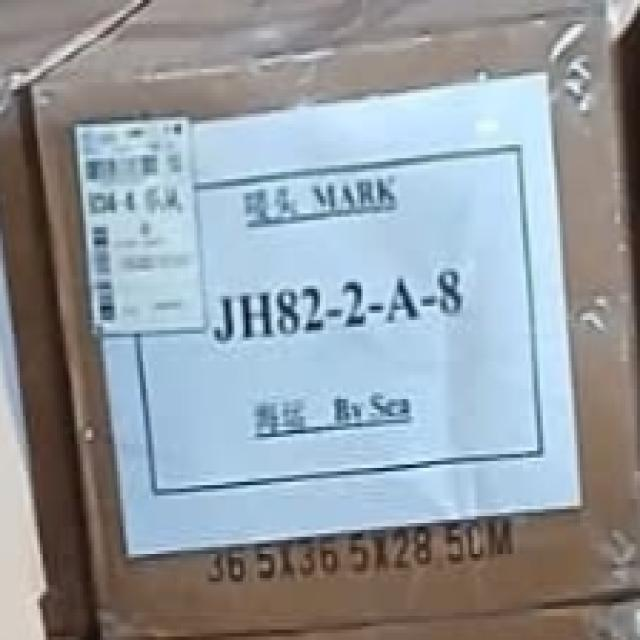carton_box: (33, 2, 640, 618)
export_mark_label: (123, 132, 549, 492), (70, 114, 222, 338)
